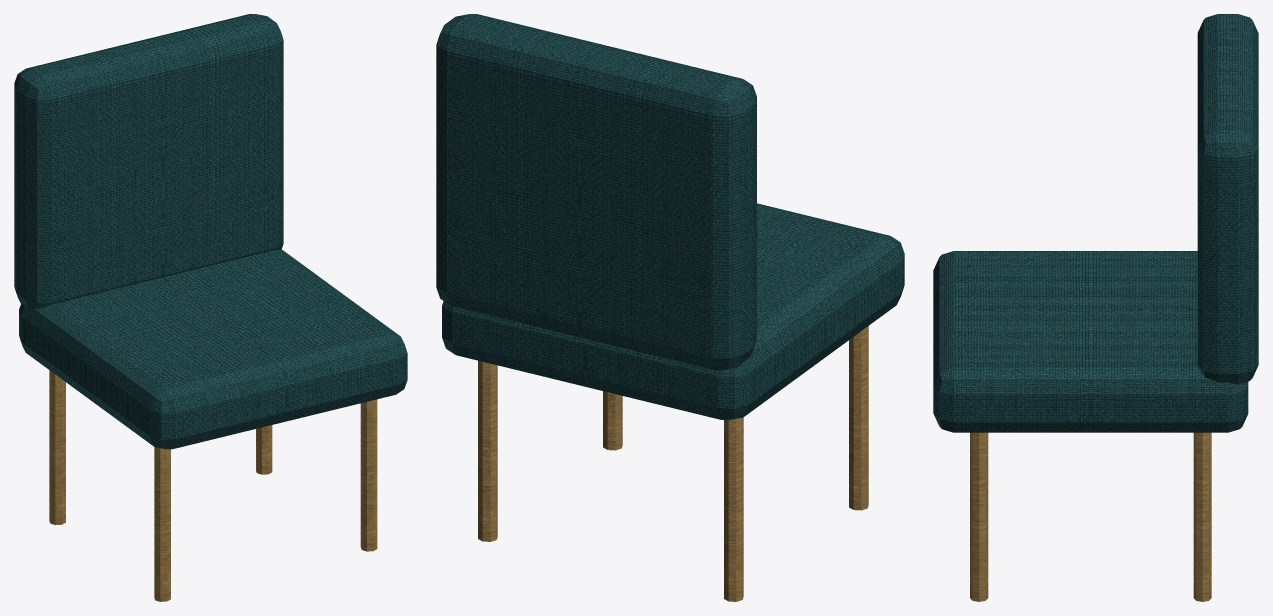
File: commons-lounge-chair.glb
3 views of the same model, side by side, from view 1: azimuth 30°, elevation 25°; view 2: azimuth 150°, elevation 25°; view 3: azimuth 270°, elevation 25° (orthographic). The views are drawn at different scales.
Parts seen in each view (by area): view 1: FURN_BackCushion.077, FURN_SeatCushion.077, FURN_SeatLeg.310, FURN_SeatLeg.308, FURN_SeatLeg.309, FURN_SeatLeg.311; view 2: FURN_BackCushion.077, FURN_SeatCushion.077, FURN_SeatLeg.309, FURN_SeatLeg.311, FURN_SeatLeg.308, FURN_SeatLeg.310; view 3: FURN_SeatCushion.077, FURN_BackCushion.077, FURN_SeatLeg.310, FURN_SeatLeg.311.
Part boxes in pixels (x1,y1,x2,y2): FURN_BackCushion.077: [14, 14, 283, 309]; FURN_SeatCushion.077: [19, 249, 407, 449]; FURN_SeatLeg.310: [360, 399, 377, 551]; FURN_SeatLeg.308: [154, 447, 170, 601]; FURN_SeatLeg.309: [49, 370, 65, 525]; FURN_SeatLeg.311: [256, 425, 272, 474]; FURN_BackCushion.077: [436, 14, 756, 370]; FURN_SeatCushion.077: [442, 203, 904, 419]; FURN_SeatLeg.309: [724, 417, 743, 601]; FURN_SeatLeg.311: [478, 360, 497, 541]; FURN_SeatLeg.308: [849, 326, 868, 510]; FURN_SeatLeg.310: [603, 391, 622, 450]; FURN_SeatCushion.077: [933, 251, 1248, 432]; FURN_BackCushion.077: [1197, 14, 1258, 384]; FURN_SeatLeg.310: [970, 432, 988, 601]; FURN_SeatLeg.311: [1193, 432, 1211, 601].
Bounding box in the file's own units: 0.62 × 1.02 × 0.64.
2 materials, 2 textured.
